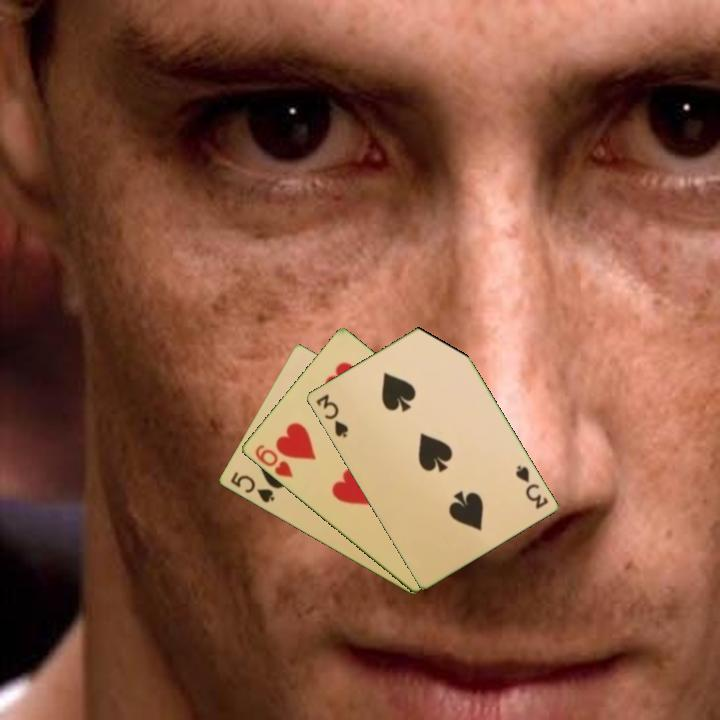3s: (511, 462, 551, 512), (312, 390, 351, 440)
5s: (226, 468, 277, 506)
6h: (251, 441, 296, 481)
